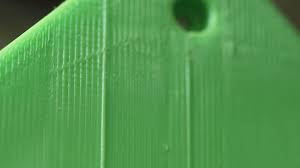3dpoverextrusion: (96, 4, 122, 165), (52, 31, 94, 110), (178, 52, 206, 167), (10, 50, 38, 70), (24, 37, 51, 48)
